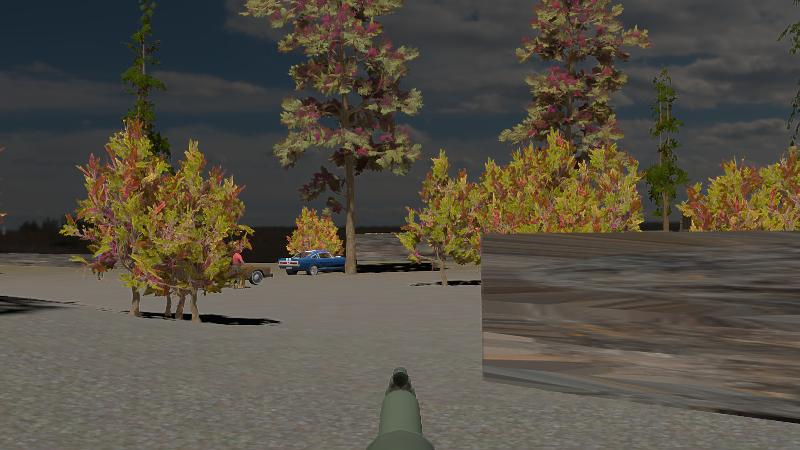car: (212, 255, 273, 286), (280, 249, 349, 275), (284, 249, 350, 275)
